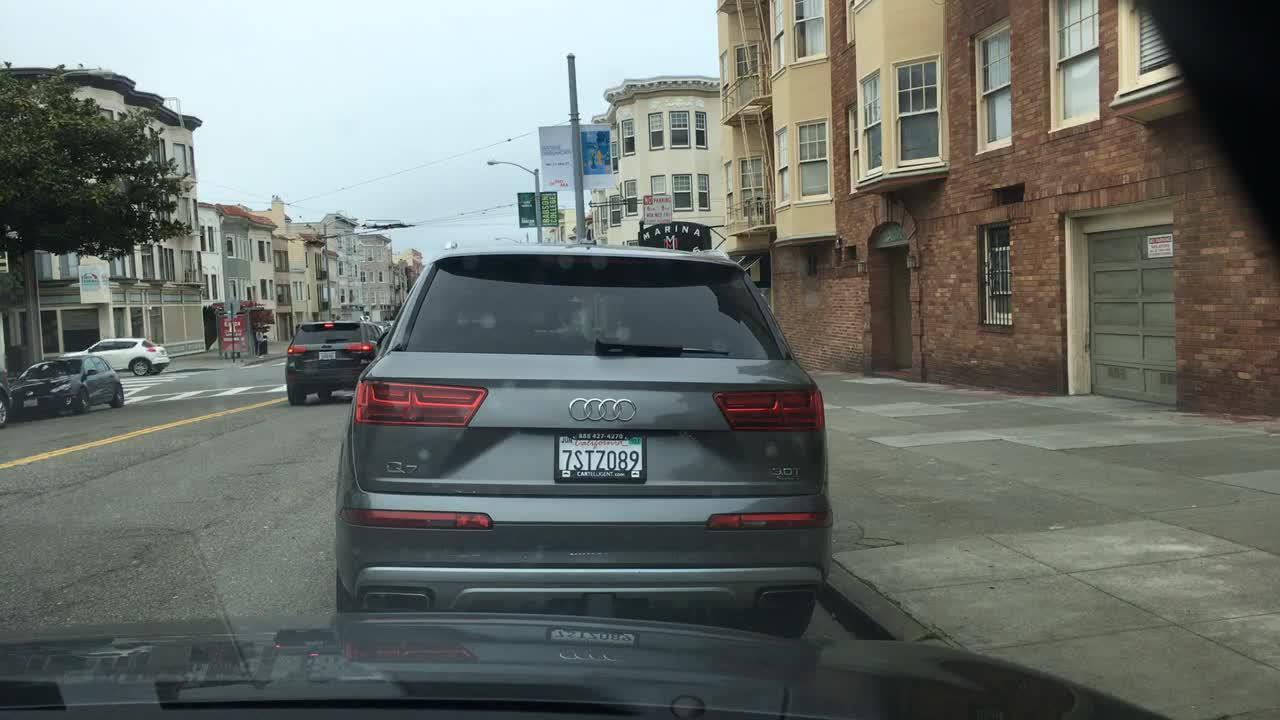Audi: (562, 393, 643, 426)
